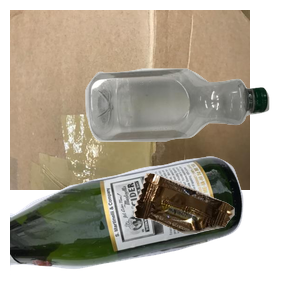cardboard: (10, 10, 250, 190)
glass: (10, 154, 246, 300)
plastic: (83, 66, 300, 201)
trash: (131, 171, 300, 300)
